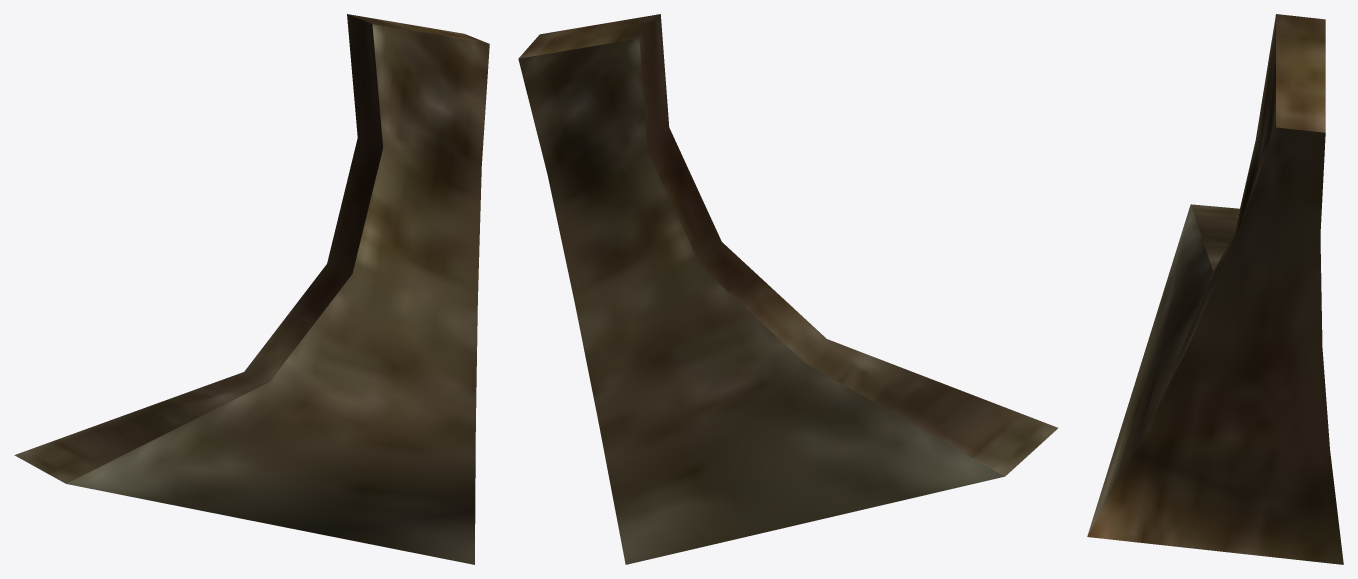
The picture shows the model from 3 angles, left to right: view 1: azimuth 30°, elevation 25°; view 2: azimuth 150°, elevation 25°; view 3: azimuth 270°, elevation 25°; orthographic projection. The views are drawn at different scales.
Visible parts, largest first — view 1: model_Object51; view 2: model_Object51; view 3: model_Object51.
Boxes of the visible parts, box(x1,y1,x2,y2) form: model_Object51: box(14, 14, 489, 564); model_Object51: box(518, 14, 1057, 564); model_Object51: box(1087, 14, 1343, 564).
Size of the model in its own units: 1.11 by 1.17 by 0.4967.
1 material, 1 textured.
